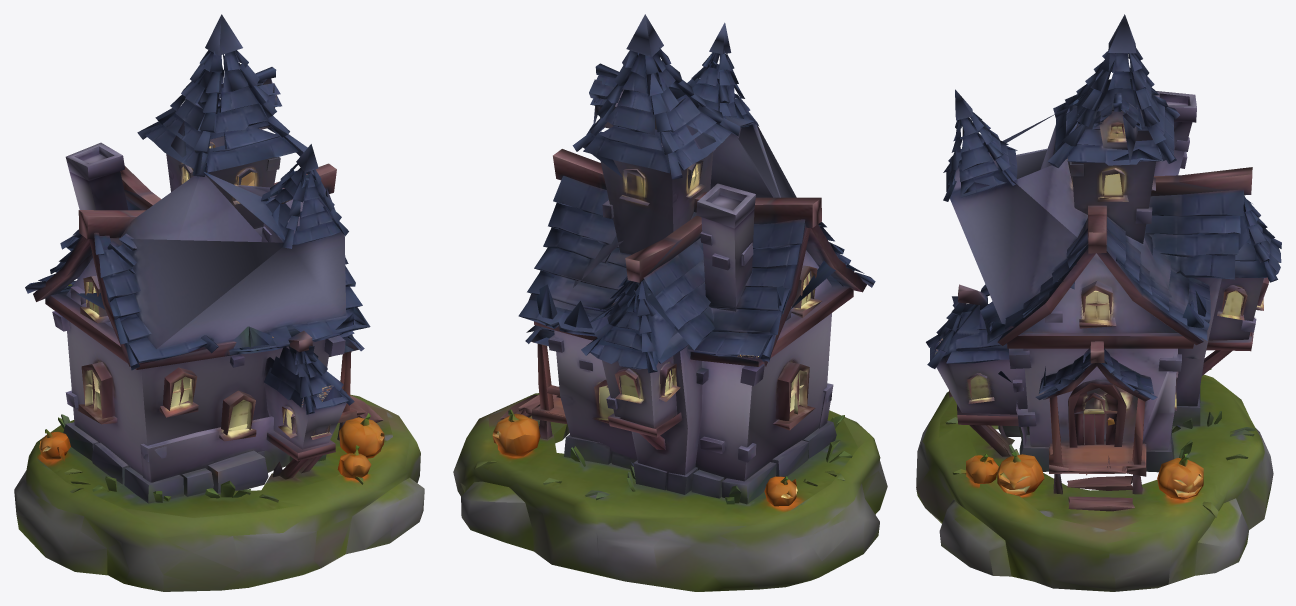
The model's file is L3_HauntedManor_LOD2.fbx.
3 renders of one model, left to right at view 1: azimuth 30°, elevation 25°; view 2: azimuth 150°, elevation 25°; view 3: azimuth 270°, elevation 25°, orthographic. The views are drawn at different scales.
Parts seen in each view (by area): view 1: L3_HauntedManor_LOD2; view 2: L3_HauntedManor_LOD2; view 3: L3_HauntedManor_LOD2.
Part boxes in pixels (x1,y1,x2,y2): L3_HauntedManor_LOD2: (14,14,424,591); L3_HauntedManor_LOD2: (453,14,887,591); L3_HauntedManor_LOD2: (916,14,1281,591).
Bounding box in the file's own units: 7.17 × 9 × 6.02.
